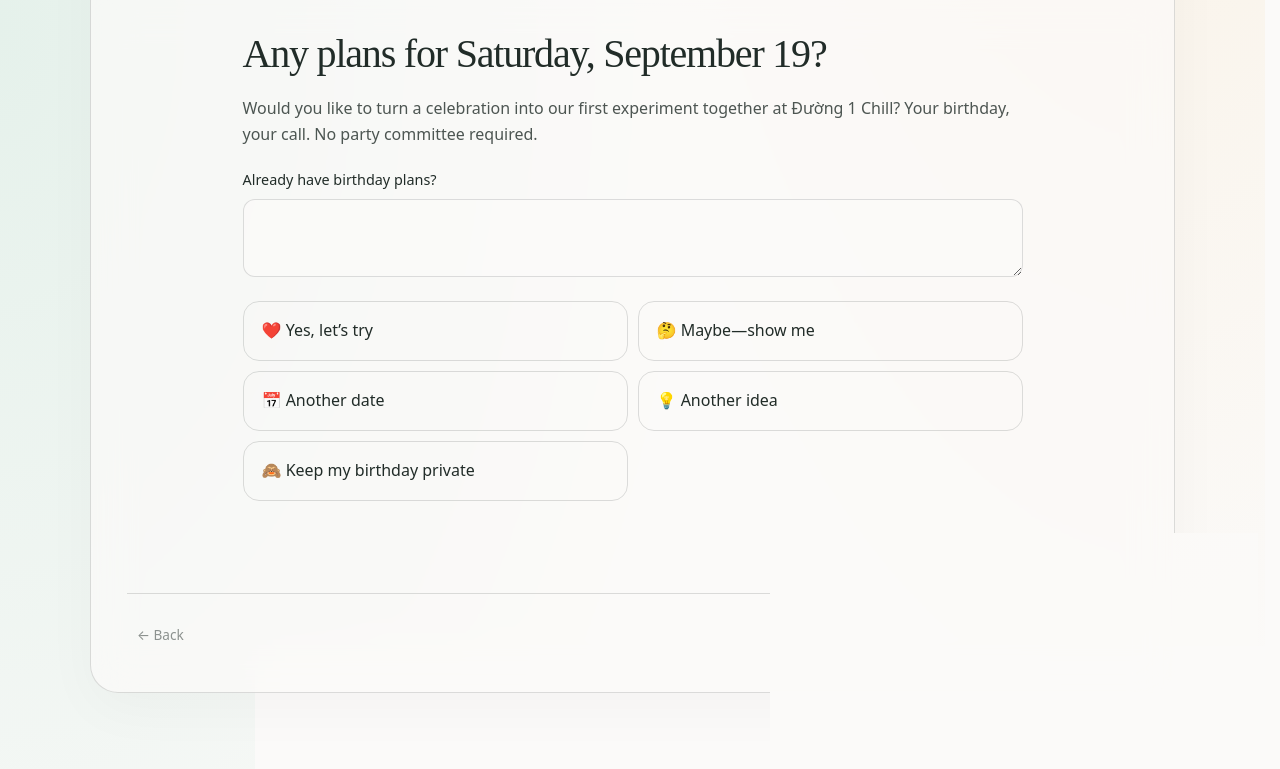
offers alternate date and saves only after an explicit action
(page scrolled)
Click the button "📅 Another date": point(323, 400) [242, 370, 628, 430]
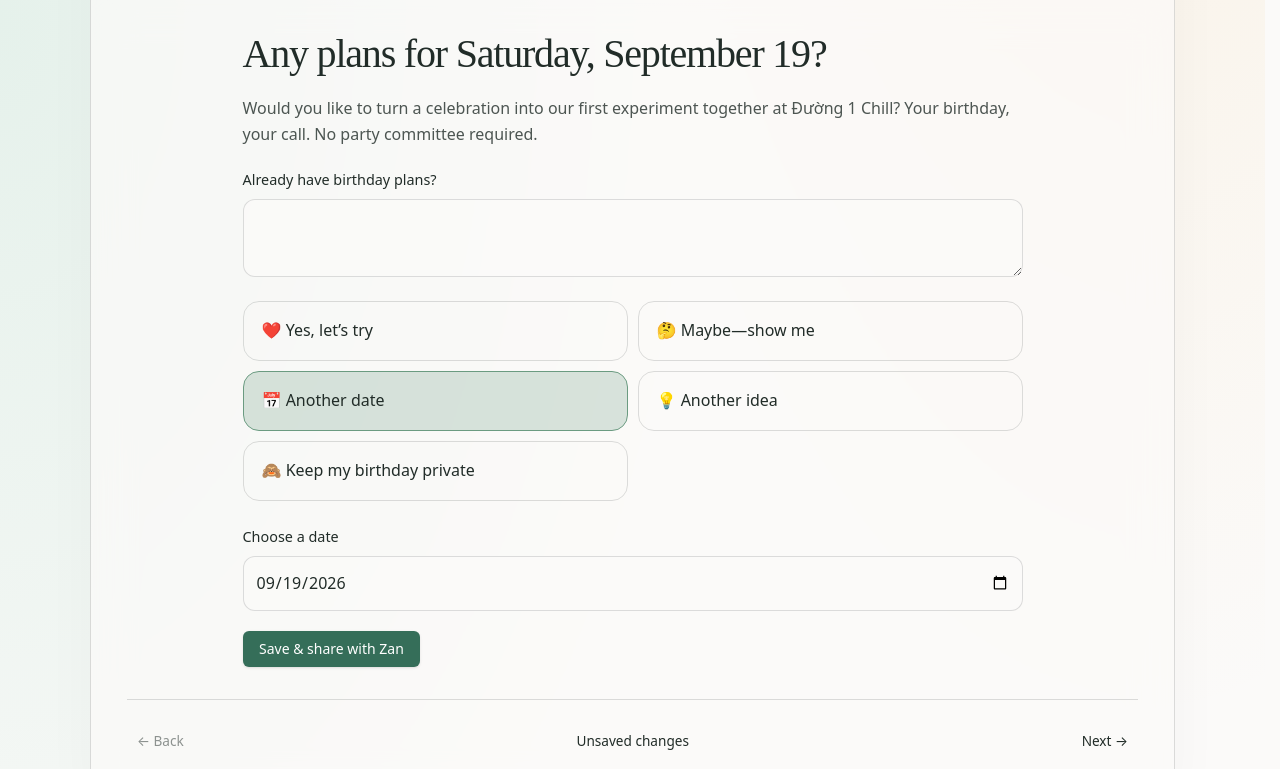
Expected: the date field labelled "Choose a date" is shown, [242, 556, 1022, 611]
In the text box labelled "Already have birthday plans?": point(632, 238) [242, 199, 1022, 276], type "No plans yet"
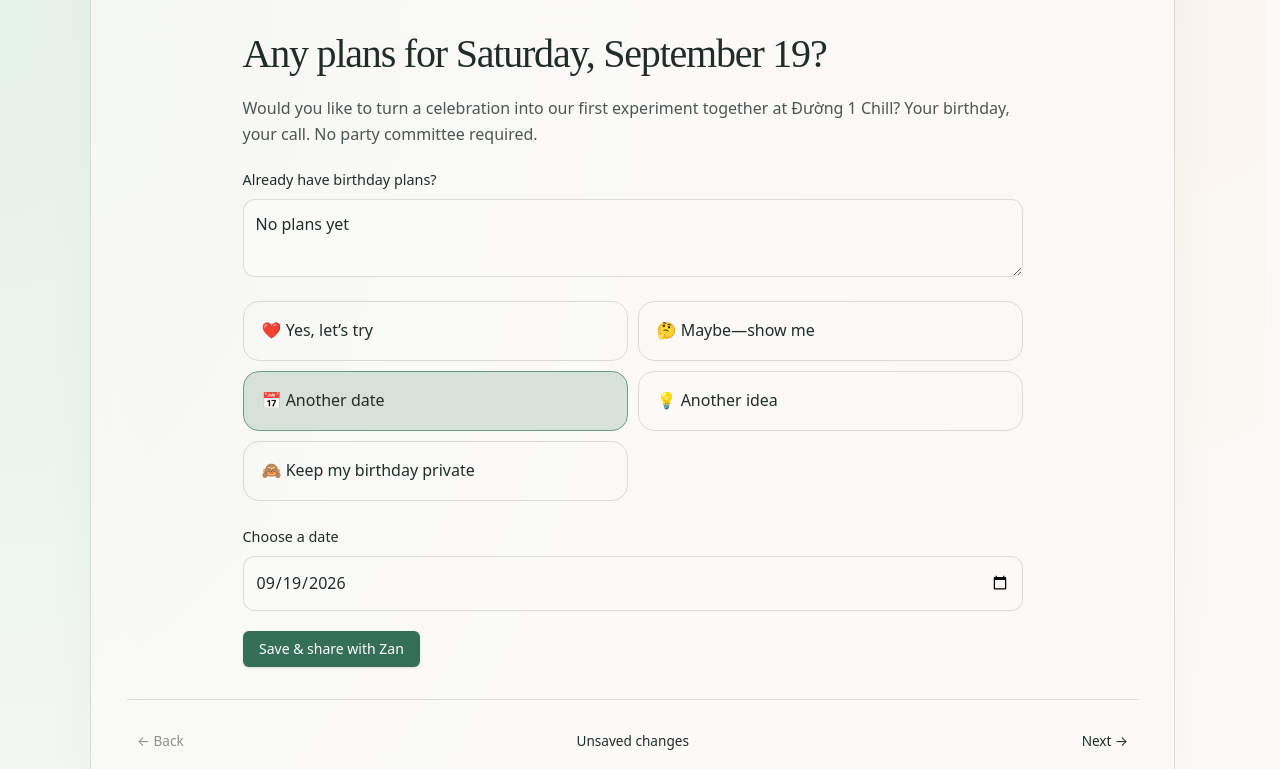
In the date field labelled "Choose a date": point(632, 584) [242, 556, 1022, 611], type "2026-09-26"
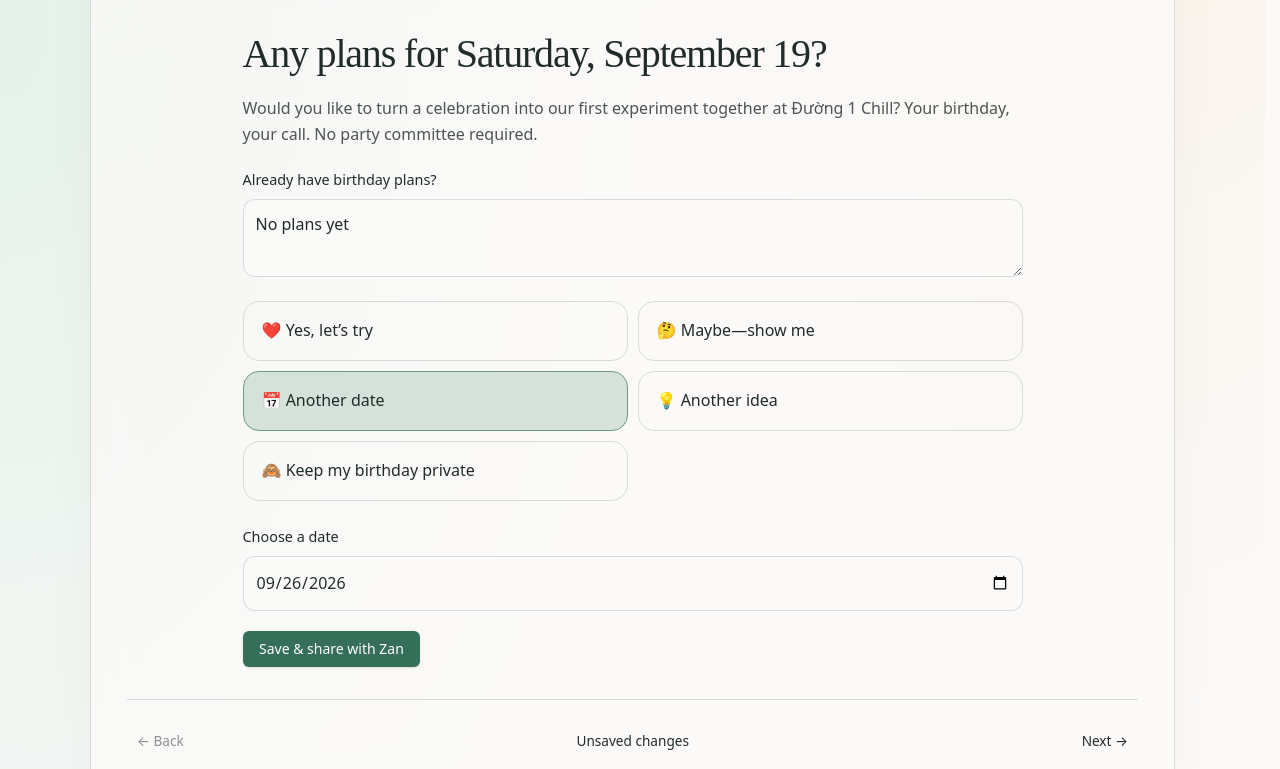
Click the button "Save & share with Zan": point(331, 649) [242, 631, 419, 667]
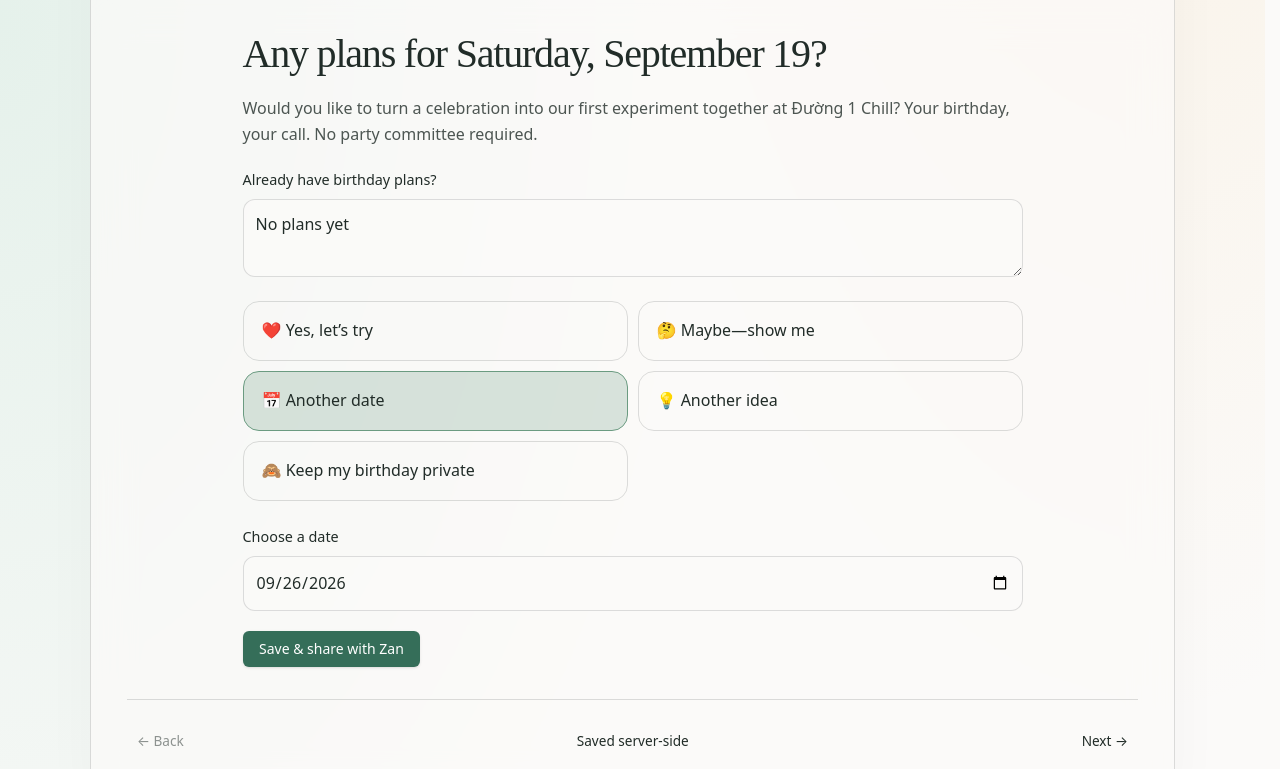
Expected: the text "Saved server-side" is shown, [577, 730, 689, 752]
